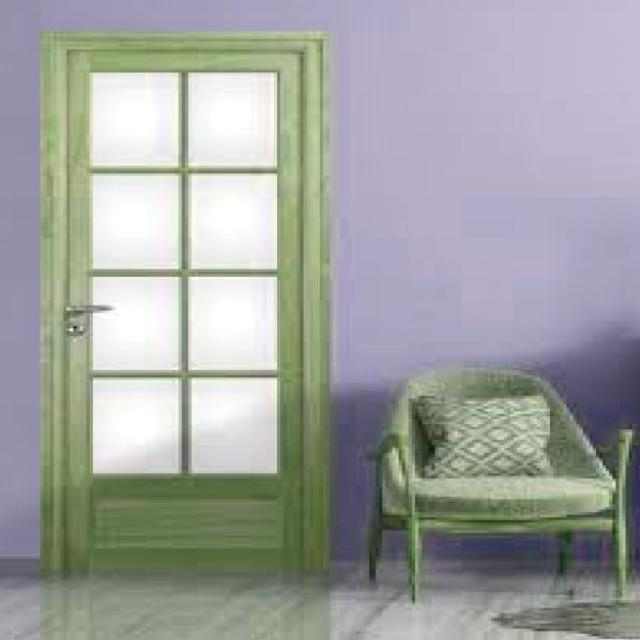door: (43, 30, 321, 576)
